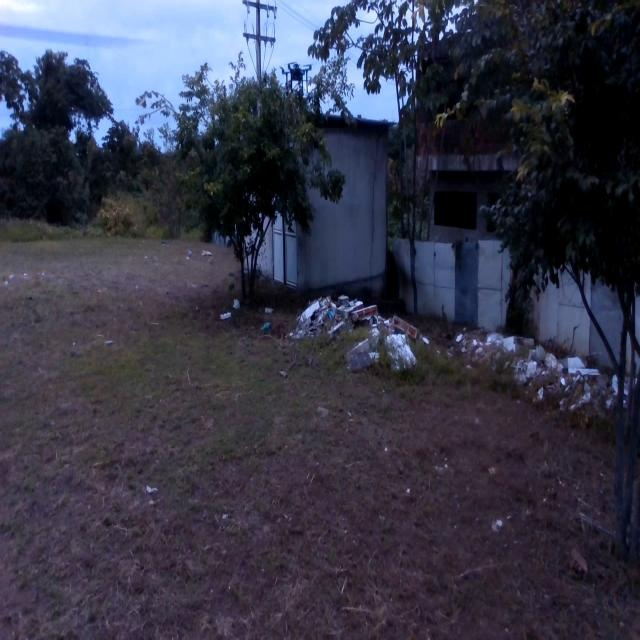-uav-: (276, 56, 322, 110)
